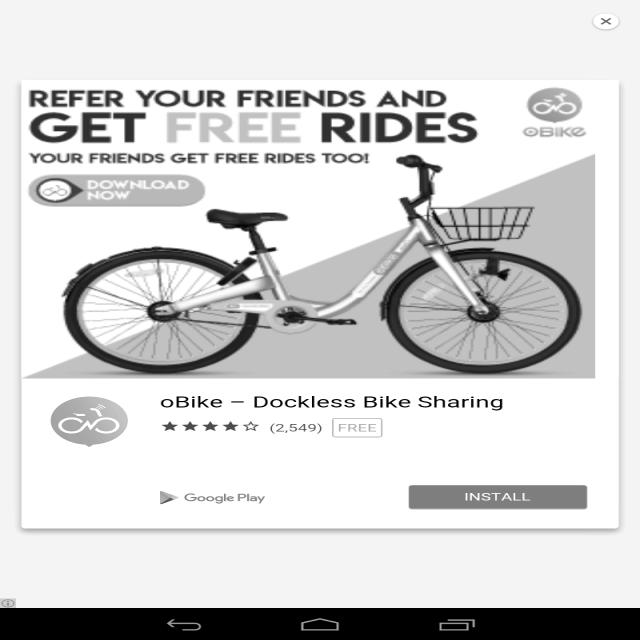Button: (401, 483, 594, 511)
ImageButton: (588, 9, 626, 33)
ImageView: (57, 215, 588, 376), (47, 393, 130, 446), (522, 83, 588, 119), (31, 171, 82, 205), (152, 486, 178, 506)
RatingBar: (158, 419, 264, 433)
TextView: (27, 86, 488, 142), (156, 389, 510, 413), (28, 149, 378, 165), (187, 487, 273, 505), (335, 418, 380, 434)
